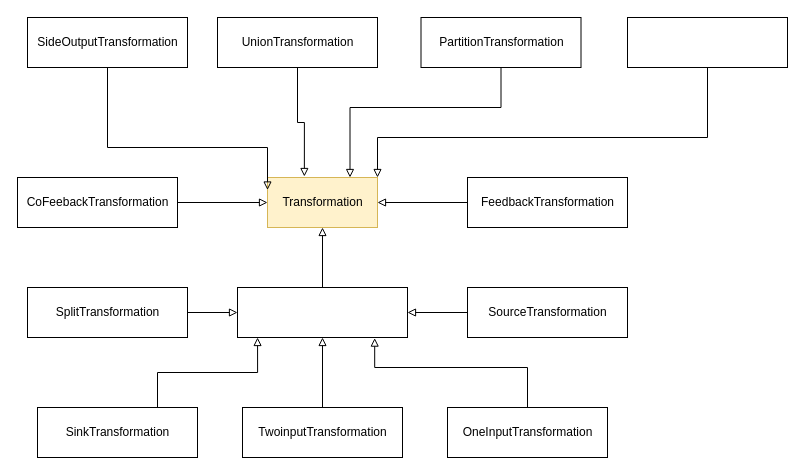
Image size: 805x475. Some labels were removed from this diagram. The centre of each missing label's shape, as x and y in pixels:
PhysicalTransformation: [322,312]
SelectTransformation: [707,42]
